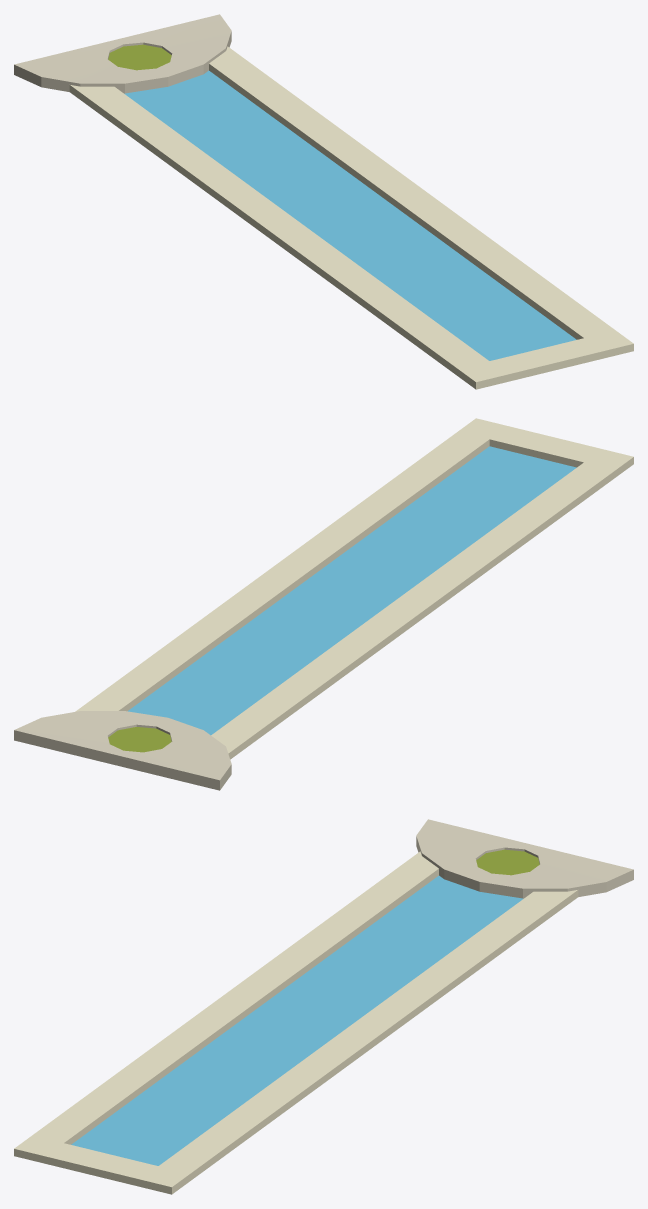
File: tajpool2.glb
The picture shows the model from 3 angles, top to bottom: view 1: azimuth 30°, elevation 25°; view 2: azimuth 150°, elevation 25°; view 3: azimuth 330°, elevation 25°; orthographic projection.
Visible parts, largest first — view 1: delh_prop_01_base; view 2: delh_prop_01_base; view 3: delh_prop_01_base.
Part boxes in pixels (x1,y1,x2,y2): delh_prop_01_base: [14, 14, 633, 389]; delh_prop_01_base: [14, 418, 633, 790]; delh_prop_01_base: [14, 819, 633, 1194].
Size of the model in its own units: 2.32 by 0.1114 by 8.55.
